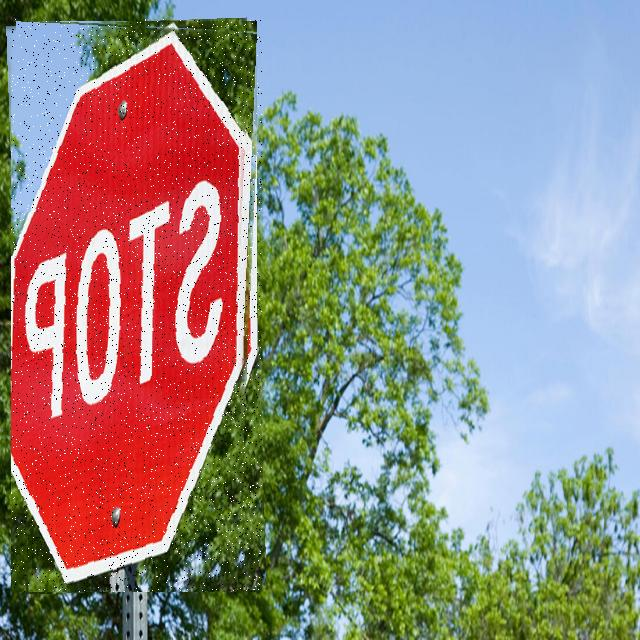stop: (11, 19, 262, 592)
